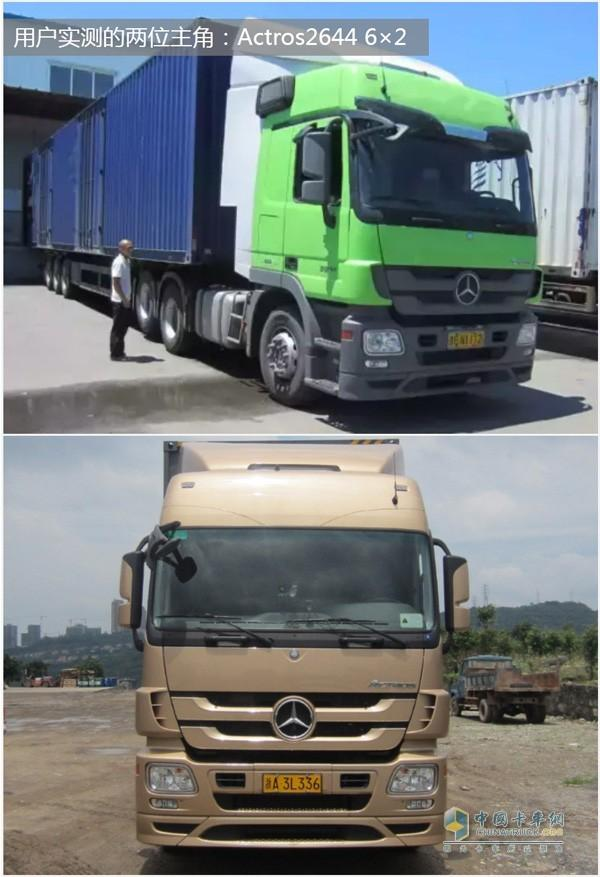truck: (1, 4, 546, 409), (117, 436, 472, 873)
